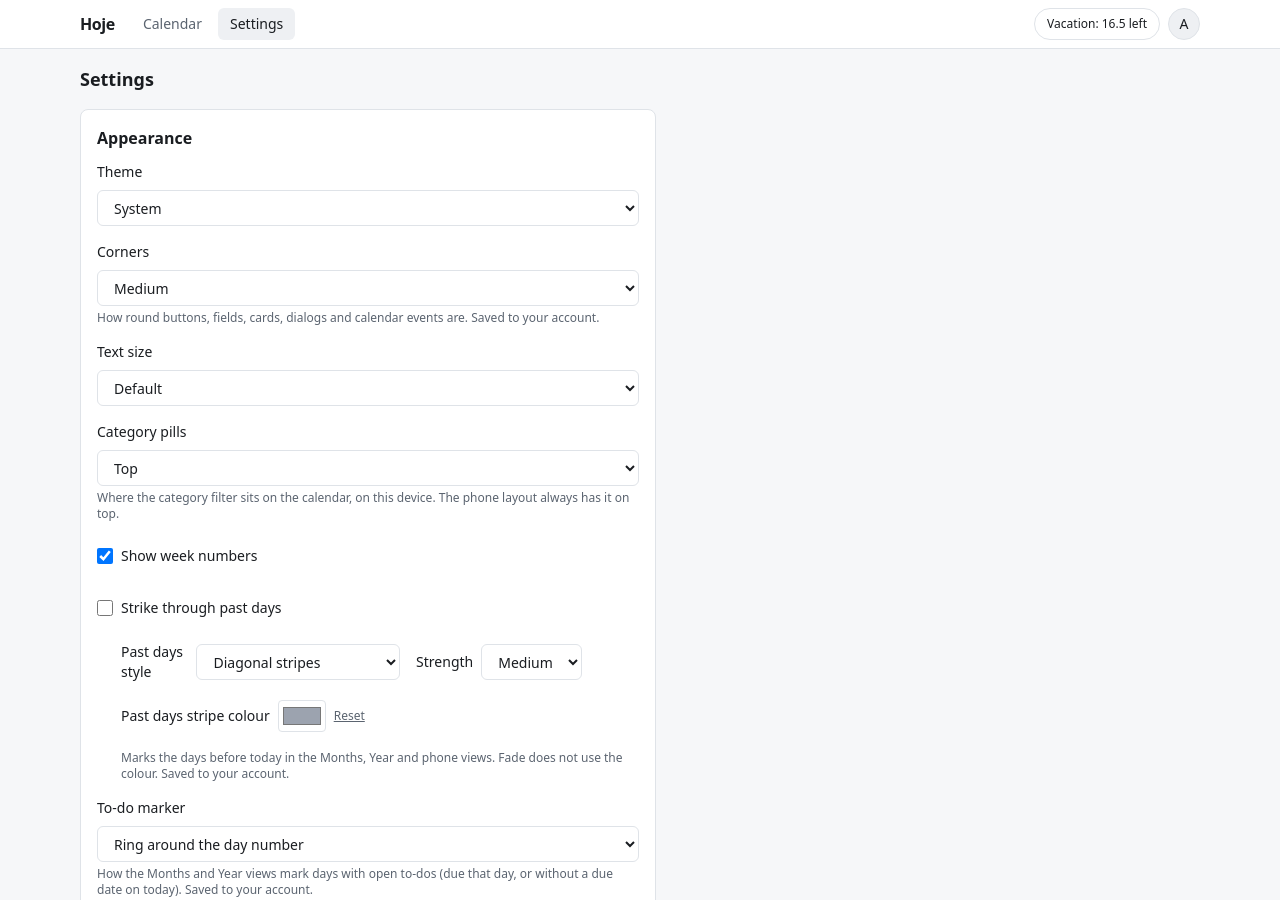
Test case: vacation pill: desktop (popover) › opens balance as a popover on desktop viewport
Click the button "Vacation: 16.5 left". click: [1097, 24]
box: [1034,8,1160,40]
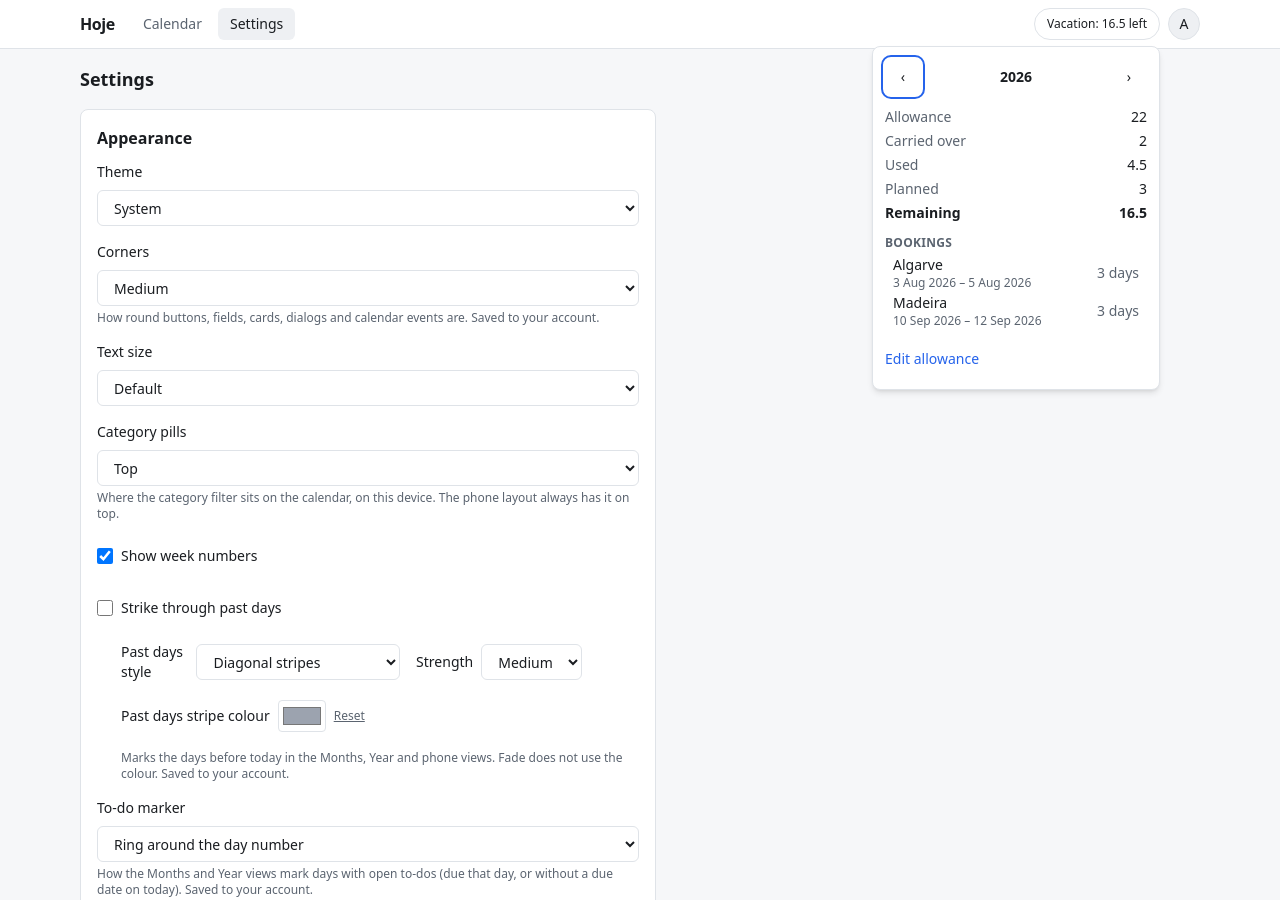
Expected: the dialog named "Vacation balance" is shown, [872,46,1160,390]
